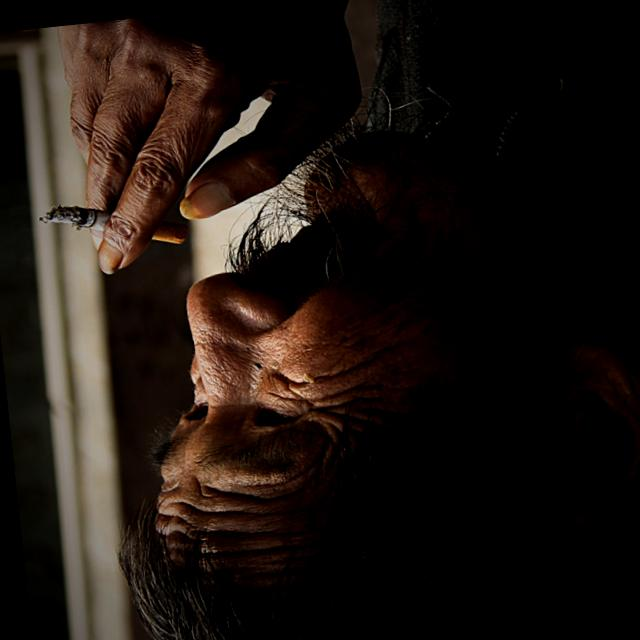smoke: (34, 183, 186, 260)
